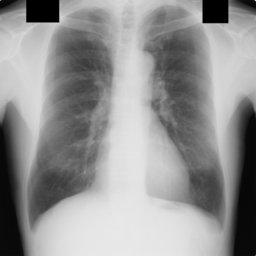left lobe: (145, 6, 223, 214)
right lobe: (30, 9, 113, 222)
